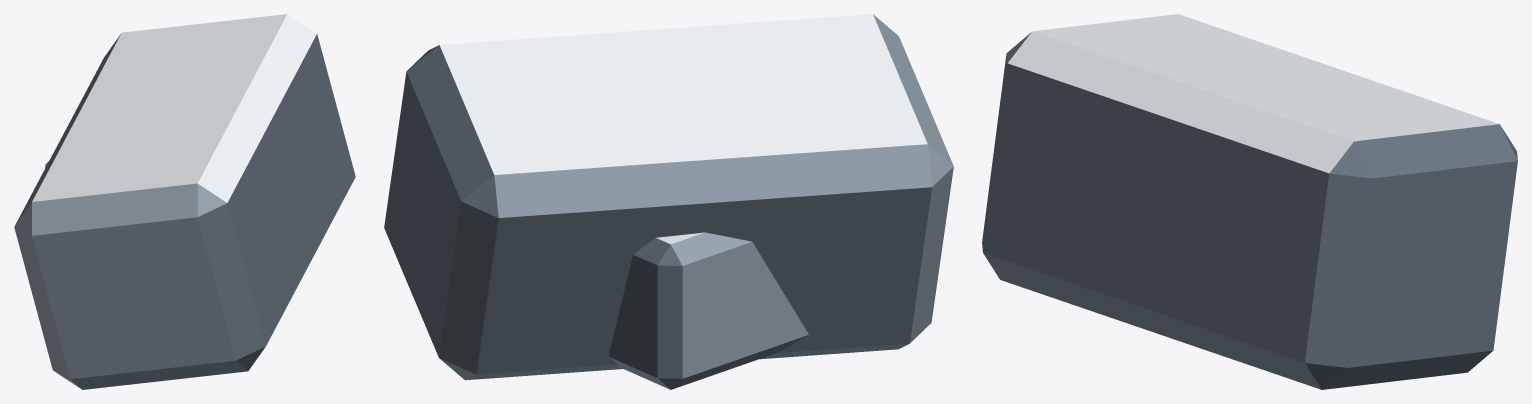
Rendered from Slate_B.fbx.
3 views of the same model, side by side, from view 1: azimuth 30°, elevation 25°; view 2: azimuth 150°, elevation 25°; view 3: azimuth 270°, elevation 25° (orthographic). The views are drawn at different scales.
Parts seen in each view (by area): view 1: Slate_B; view 2: Slate_B; view 3: Slate_B.
Boxes of the visible parts, box(x1,y1,x2,y2) form: Slate_B: box(14, 14, 355, 389); Slate_B: box(384, 14, 953, 389); Slate_B: box(982, 14, 1517, 389).
Bounding box in the file's own units: 1.06 × 0.6339 × 1.05.
